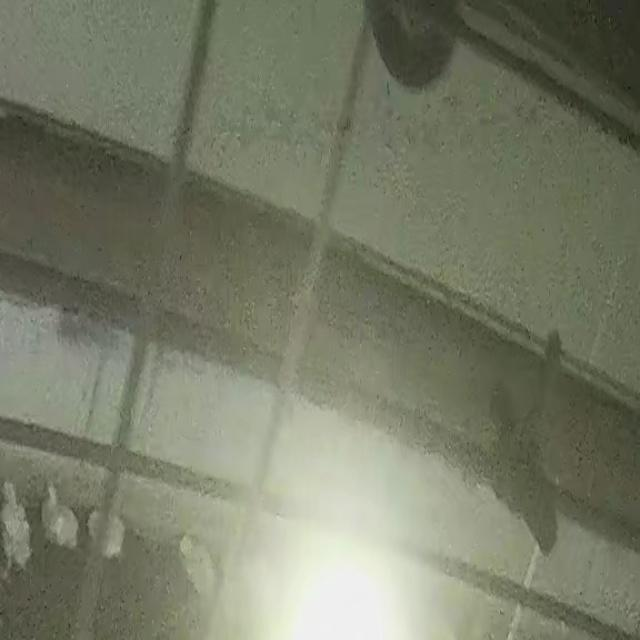chicken: (0, 478, 35, 567), (181, 537, 220, 599), (39, 485, 75, 548), (79, 507, 121, 558)
